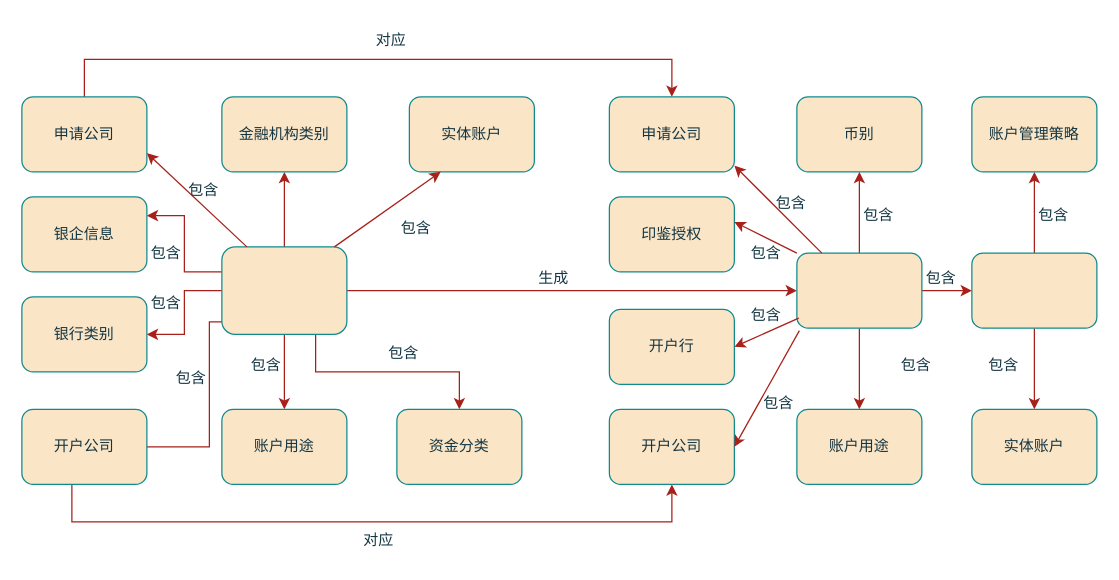
This 1119x580 diagram has some shape labels left out. The shapes that lost their labels are listed below. From the top down, each one's centre as x and y in pixels, then its label:
At [284,290]: "开户申请".
At [859,290]: "银行账户".
At [1034,290]: "结算方式".
